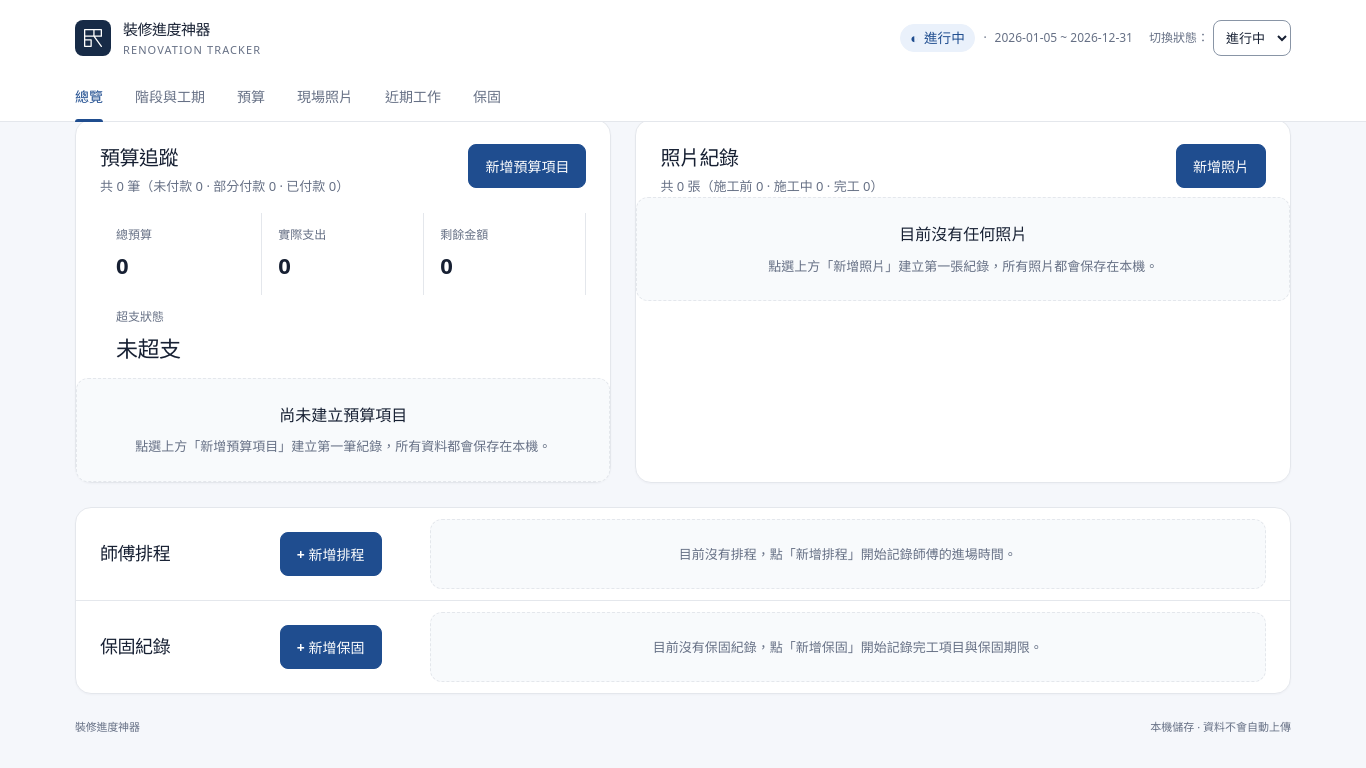
it: AC-FR006-02 — validation › rejects empty provider with inline error and does not persist
(page scrolled)
Click the button with test id "warranty-add-cta" at (331, 647), box [280,625,382,669]
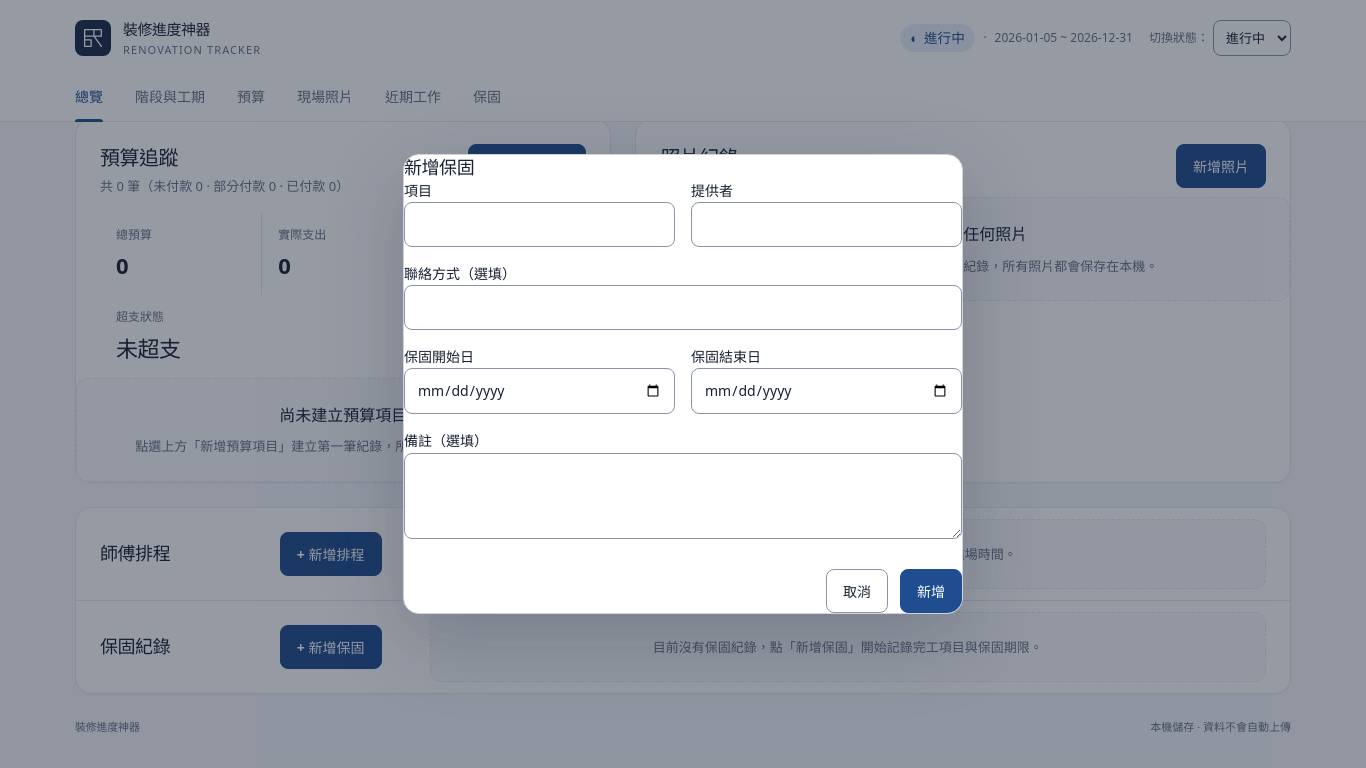
Type "磁磚保固" into the field with test id "warranty-item-input" at (540, 225), box [404,202,675,247]
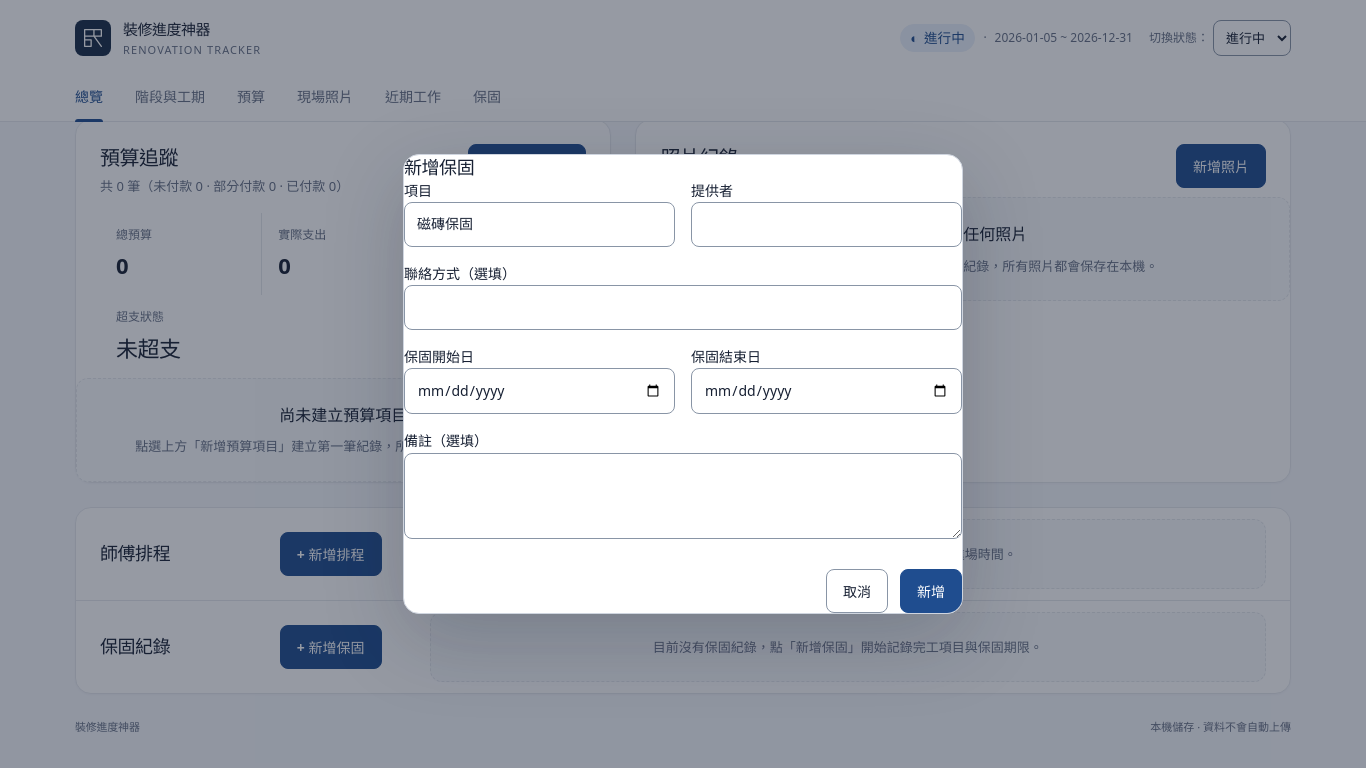
Type "2026-01-01" into the date field with test id "warranty-starts-input" at (540, 391), box [404,368,675,414]
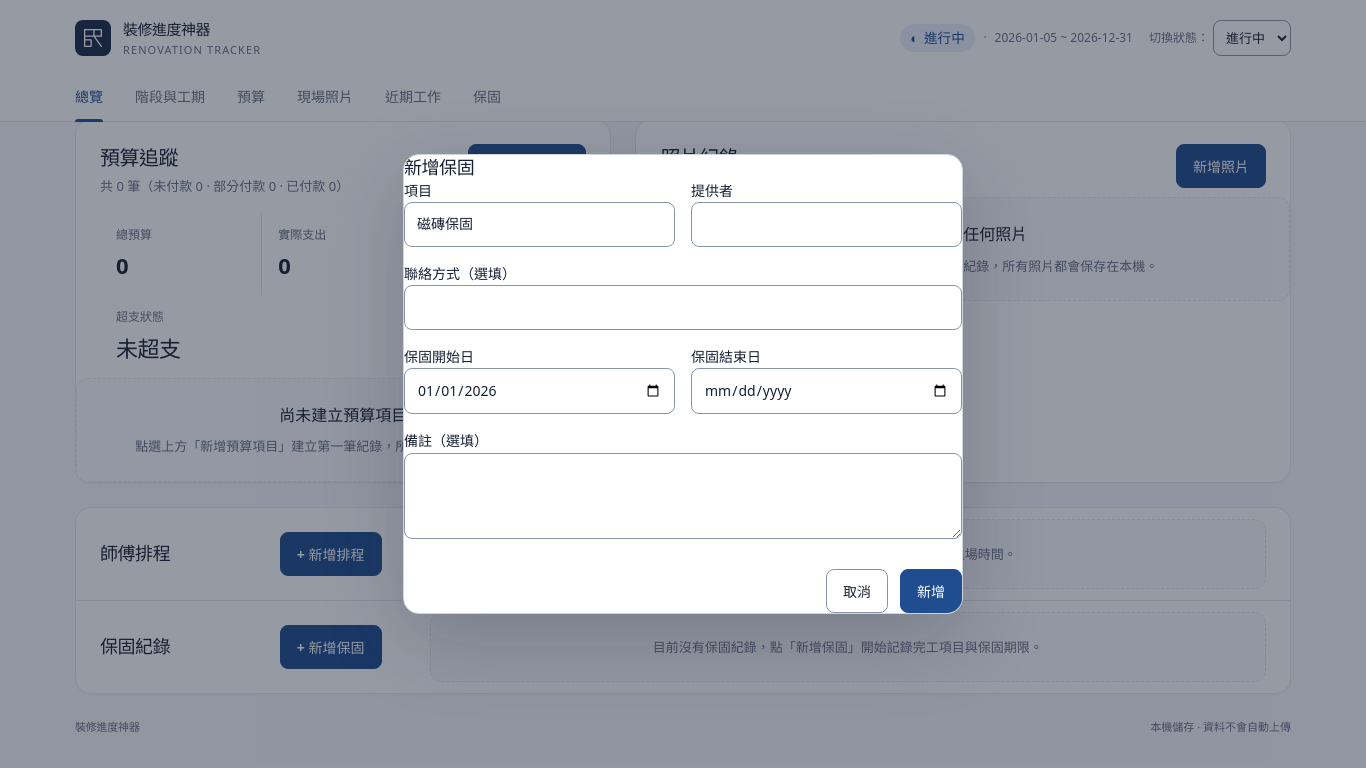
Type "2026-12-31" into the date field with test id "warranty-ends-input" at (826, 391), box [691,368,962,414]
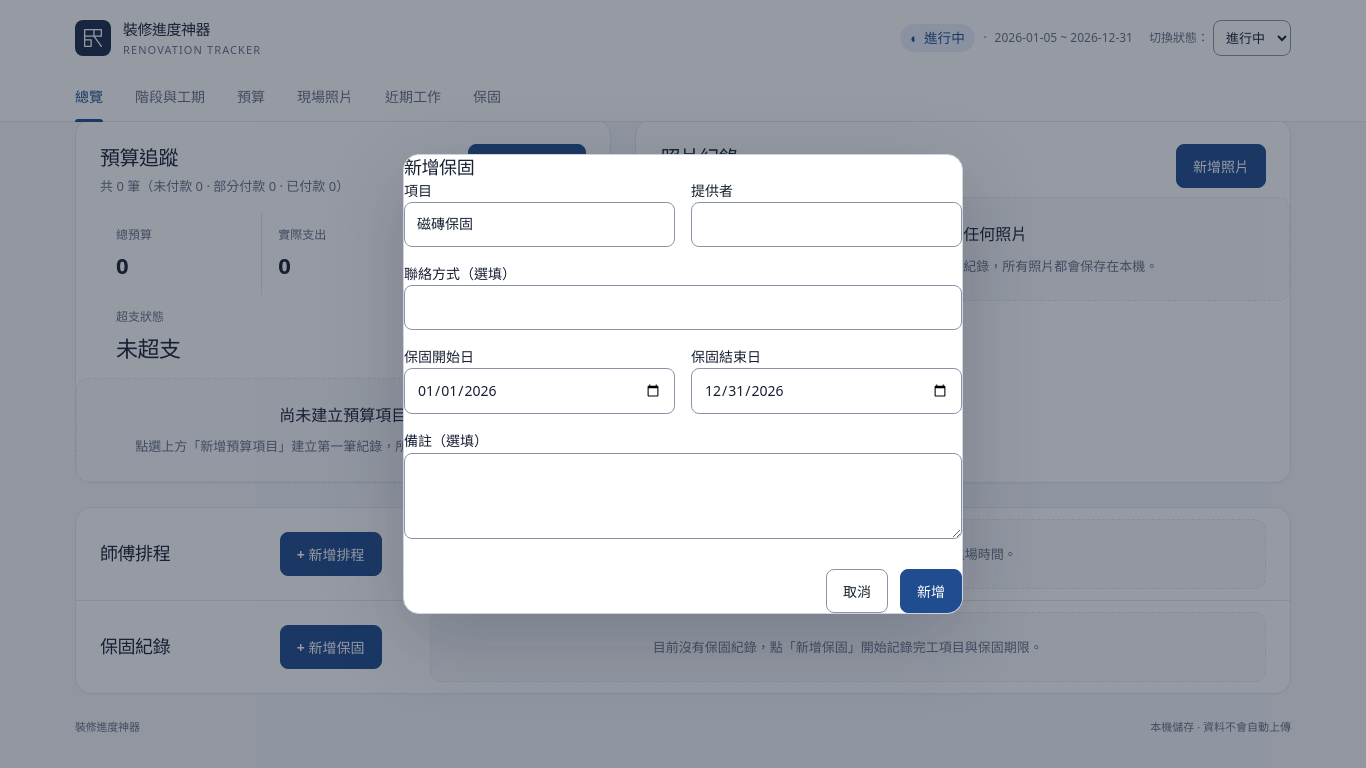
Click the button with test id "warranty-submit" at (931, 591), box [900,569,962,613]
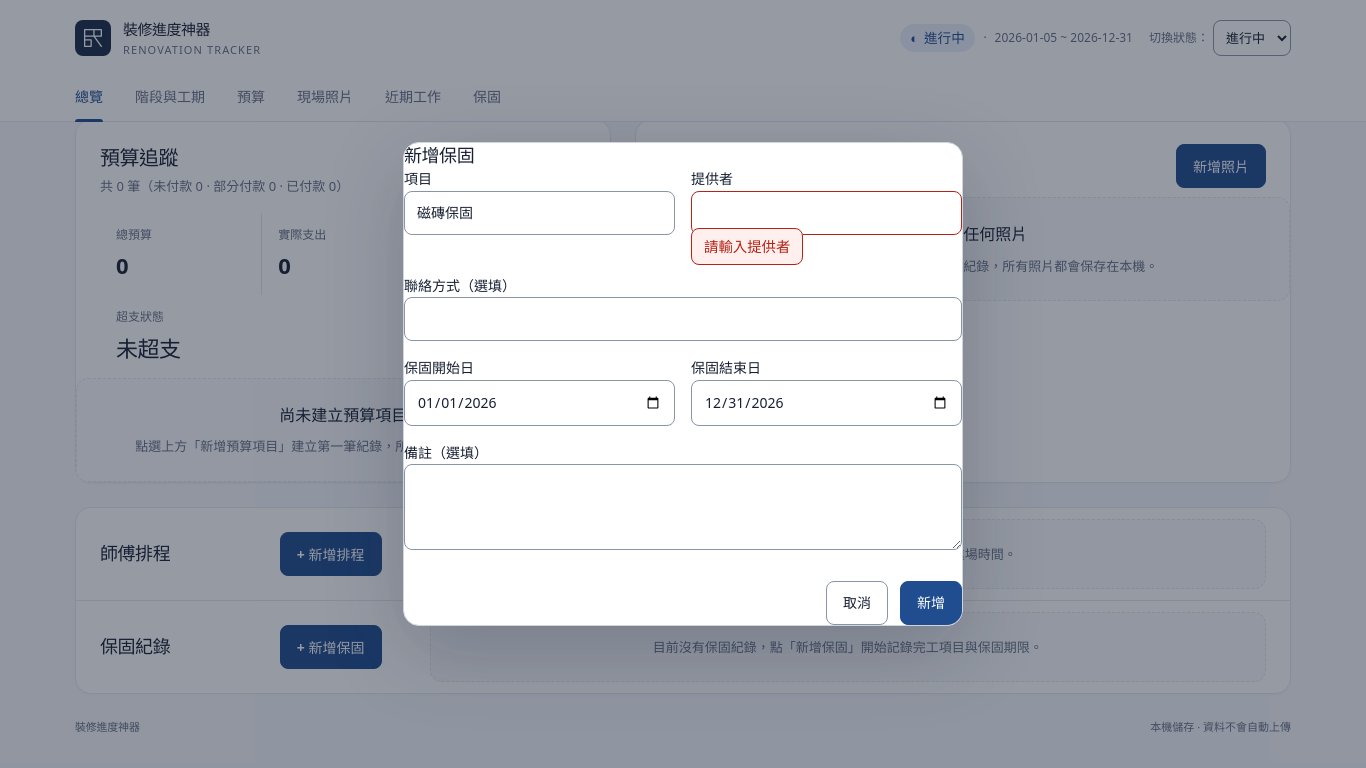
expect the text with test id "warranty-provider-error" shows "提供者": met, box [691,228,803,265]
